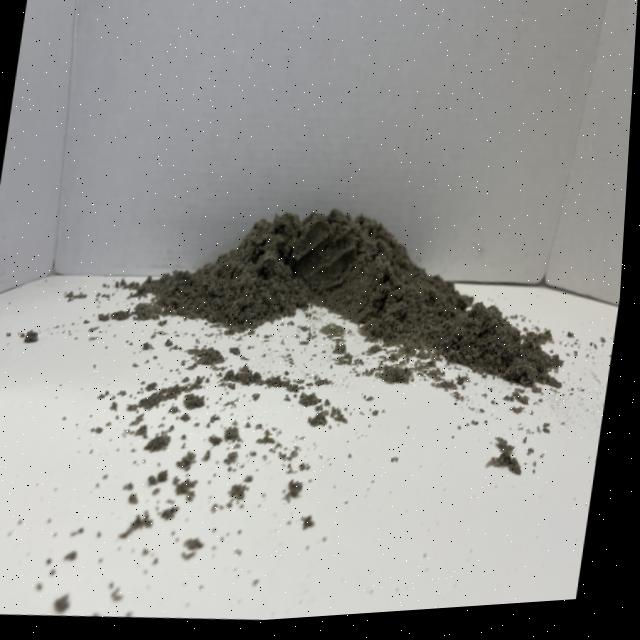sand: (170, 171, 499, 372)
